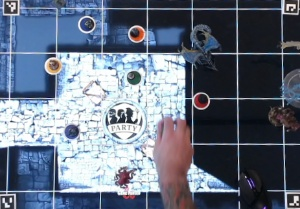blue: (75, 14, 97, 36)
green: (125, 68, 141, 84)
orange: (125, 23, 145, 45)
red: (188, 89, 209, 109)
violet: (61, 121, 81, 141)
yellow: (41, 54, 61, 75)
